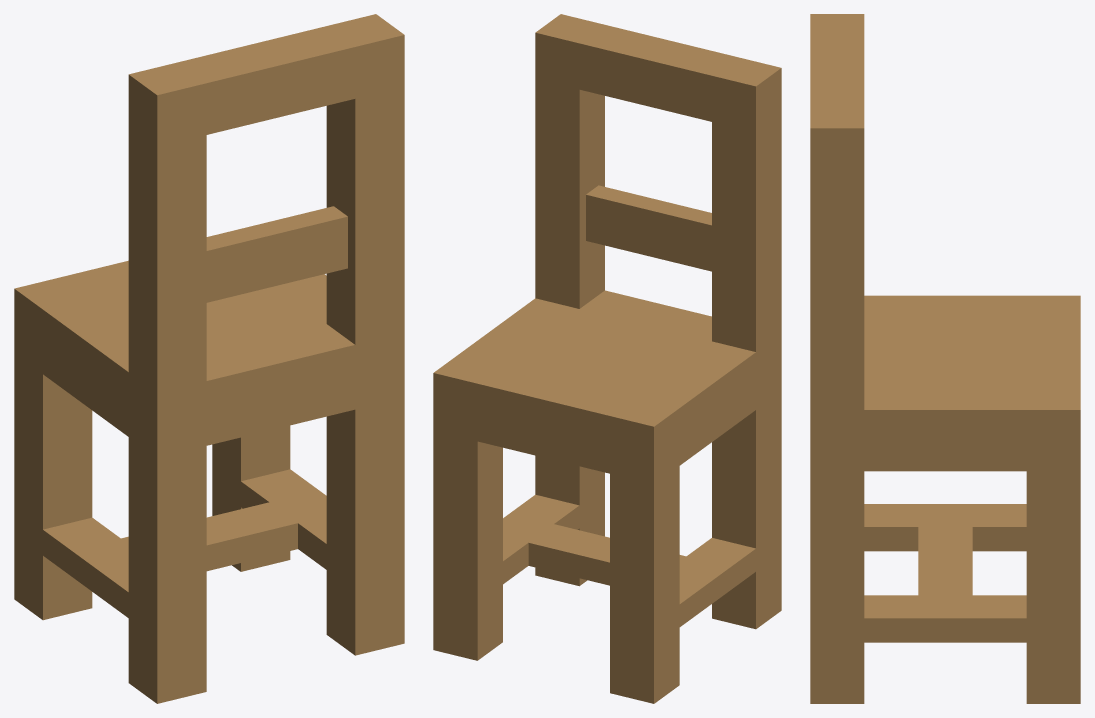
File: chair.glb
3 renders of one model, left to right at view 1: azimuth 30°, elevation 25°; view 2: azimuth 150°, elevation 25°; view 3: azimuth 270°, elevation 25°, orthographic. The views are drawn at different scales.
Visible parts, largest first — view 1: chair; view 2: chair; view 3: chair.
Part boxes in pixels (left/top/right/bottom): chair: left=14, top=14, right=404, bottom=703; chair: left=433, top=14, right=781, bottom=703; chair: left=810, top=14, right=1080, bottom=703.
Bounding box in the file's own units: 0.4 × 0.94 × 0.4.
